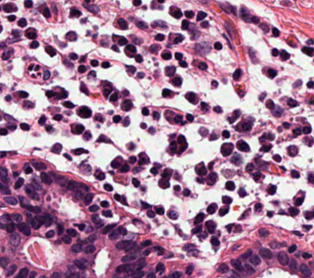nucleus: (49, 172, 67, 186), (25, 184, 38, 199), (235, 120, 252, 131), (177, 135, 187, 153), (220, 143, 233, 156), (240, 6, 251, 21), (77, 106, 91, 117), (169, 6, 181, 18), (228, 110, 240, 122), (18, 223, 30, 235), (236, 140, 249, 151), (195, 163, 206, 176), (40, 213, 51, 226), (116, 240, 131, 249), (125, 44, 136, 56), (40, 172, 51, 184), (31, 216, 42, 228), (102, 223, 115, 233), (0, 166, 8, 182), (185, 92, 196, 103), (139, 152, 149, 164), (111, 156, 121, 168), (207, 172, 217, 184), (31, 177, 41, 189), (26, 205, 41, 213), (9, 233, 19, 245), (71, 124, 84, 133), (260, 132, 274, 140), (25, 28, 36, 38), (121, 100, 132, 110), (231, 153, 241, 164), (158, 178, 169, 188), (19, 196, 29, 207), (92, 214, 102, 225), (205, 221, 215, 232), (3, 4, 16, 12), (97, 134, 110, 142), (169, 141, 177, 154), (33, 162, 46, 170), (4, 196, 17, 204), (117, 18, 127, 28), (45, 46, 55, 56), (165, 66, 175, 76), (51, 143, 61, 153), (162, 168, 172, 178), (0, 183, 10, 193), (194, 213, 204, 223), (70, 8, 81, 17), (1, 50, 12, 59), (165, 110, 174, 121), (14, 177, 23, 188), (84, 193, 93, 204), (86, 5, 98, 13), (196, 11, 206, 20), (66, 31, 76, 40), (171, 76, 181, 85), (57, 89, 67, 98), (273, 106, 282, 116), (67, 181, 77, 190), (207, 203, 216, 213), (109, 230, 119, 239), (233, 68, 241, 79), (80, 83, 88, 94), (73, 148, 87, 154), (199, 127, 208, 136), (95, 170, 104, 179), (225, 181, 234, 190), (267, 185, 276, 194), (168, 210, 177, 219), (173, 35, 183, 43), (149, 44, 159, 52), (266, 99, 274, 109), (119, 164, 129, 172), (6, 222, 14, 232), (258, 228, 268, 236), (136, 21, 147, 28), (260, 144, 271, 151), (17, 18, 26, 26), (260, 23, 268, 32), (118, 36, 126, 45), (126, 65, 135, 73), (267, 69, 276, 77), (103, 87, 111, 96), (174, 115, 183, 123), (83, 130, 91, 139), (24, 164, 32, 173), (74, 190, 82, 199), (254, 203, 262, 212), (219, 207, 228, 215), (13, 213, 21, 222), (192, 225, 201, 233), (67, 228, 76, 236), (87, 234, 96, 242), (210, 237, 219, 245), (43, 7, 50, 17), (162, 89, 172, 96), (46, 90, 56, 97), (110, 91, 117, 101), (63, 101, 73, 108), (78, 183, 88, 190), (270, 241, 280, 248), (30, 40, 38, 48), (253, 172, 261, 180), (238, 188, 246, 196), (155, 206, 163, 214), (118, 226, 126, 234), (62, 235, 70, 243), (181, 20, 188, 29), (161, 52, 170, 59), (94, 114, 103, 121), (38, 115, 45, 124), (20, 123, 29, 130), (222, 196, 231, 203), (141, 201, 150, 208), (102, 210, 111, 217), (75, 223, 84, 230), (18, 91, 28, 97), (23, 101, 33, 107), (4, 114, 14, 120), (123, 116, 129, 126), (57, 224, 63, 234), (141, 240, 151, 246), (24, 0, 32, 7), (272, 28, 279, 36), (175, 52, 182, 60), (198, 62, 206, 69), (201, 102, 208, 110), (209, 133, 217, 140), (246, 163, 253, 171), (132, 178, 139, 186), (104, 184, 112, 191), (2, 214, 10, 221), (226, 224, 234, 231), (184, 11, 193, 17), (155, 34, 164, 40), (43, 70, 49, 79), (89, 205, 98, 211), (251, 16, 258, 23), (12, 29, 19, 36), (214, 42, 221, 49), (135, 55, 142, 62), (78, 65, 85, 72), (186, 114, 193, 121), (113, 115, 120, 122), (222, 130, 229, 137), (64, 153, 71, 160), (273, 154, 280, 161), (129, 156, 136, 163), (150, 167, 157, 174), (114, 194, 121, 201), (147, 210, 154, 217), (46, 230, 53, 237), (272, 48, 278, 56), (69, 53, 77, 59), (90, 60, 98, 66), (259, 92, 265, 100), (213, 106, 221, 112), (142, 107, 148, 115), (153, 111, 159, 119), (53, 114, 61, 120), (201, 21, 208, 27), (112, 45, 119, 51), (179, 61, 186, 67), (88, 71, 95, 77), (211, 80, 217, 87), (0, 128, 6, 135), (127, 143, 134, 149), (183, 188, 189, 195), (132, 0, 140, 5), (7, 15, 15, 20), (101, 62, 109, 67), (7, 125, 15, 130), (121, 196, 126, 204), (100, 201, 108, 206), (46, 125, 52, 131), (148, 127, 154, 133), (267, 211, 273, 217), (234, 225, 240, 231), (134, 38, 141, 43), (137, 72, 144, 77), (208, 162, 213, 169), (196, 177, 203, 182), (173, 185, 180, 190), (199, 233, 206, 238), (122, 90, 128, 95), (140, 123, 146, 128), (0, 151, 5, 157), (80, 56, 85, 61), (5, 95, 10, 100), (86, 227, 91, 232), (152, 22, 156, 27), (13, 172, 18, 176), (279, 210, 284, 214), (29, 65, 33, 69), (158, 0, 163, 2)
